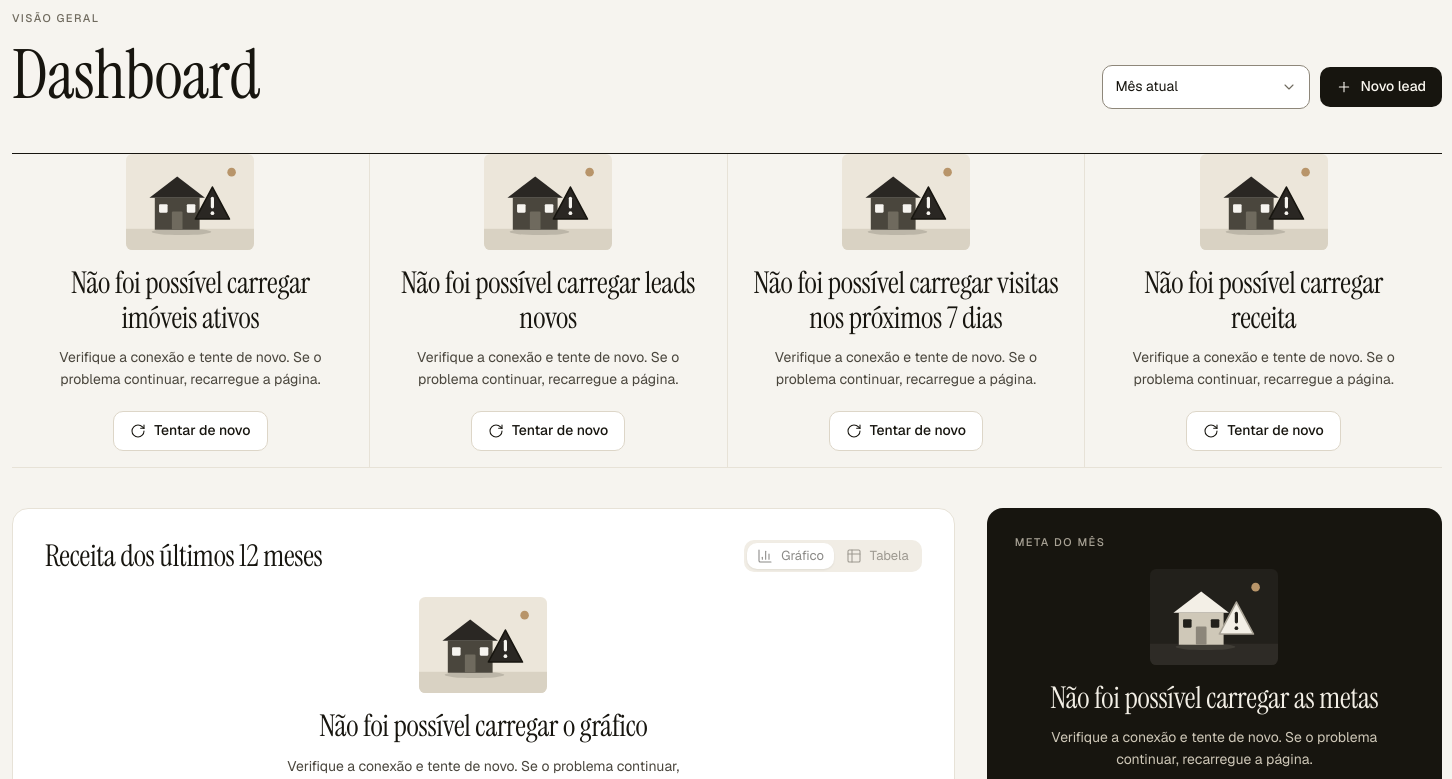
Test: TelaDashboard (RF-10…16) › erro com taxaErro 1 mostra Tentar de novo e se recupera
The width and height of the screenshot is (1452, 779).
Click the button "Tentar de novo" below "Não foi possível carregar imóveis ativos": [190, 431] box [113,411,268,451]
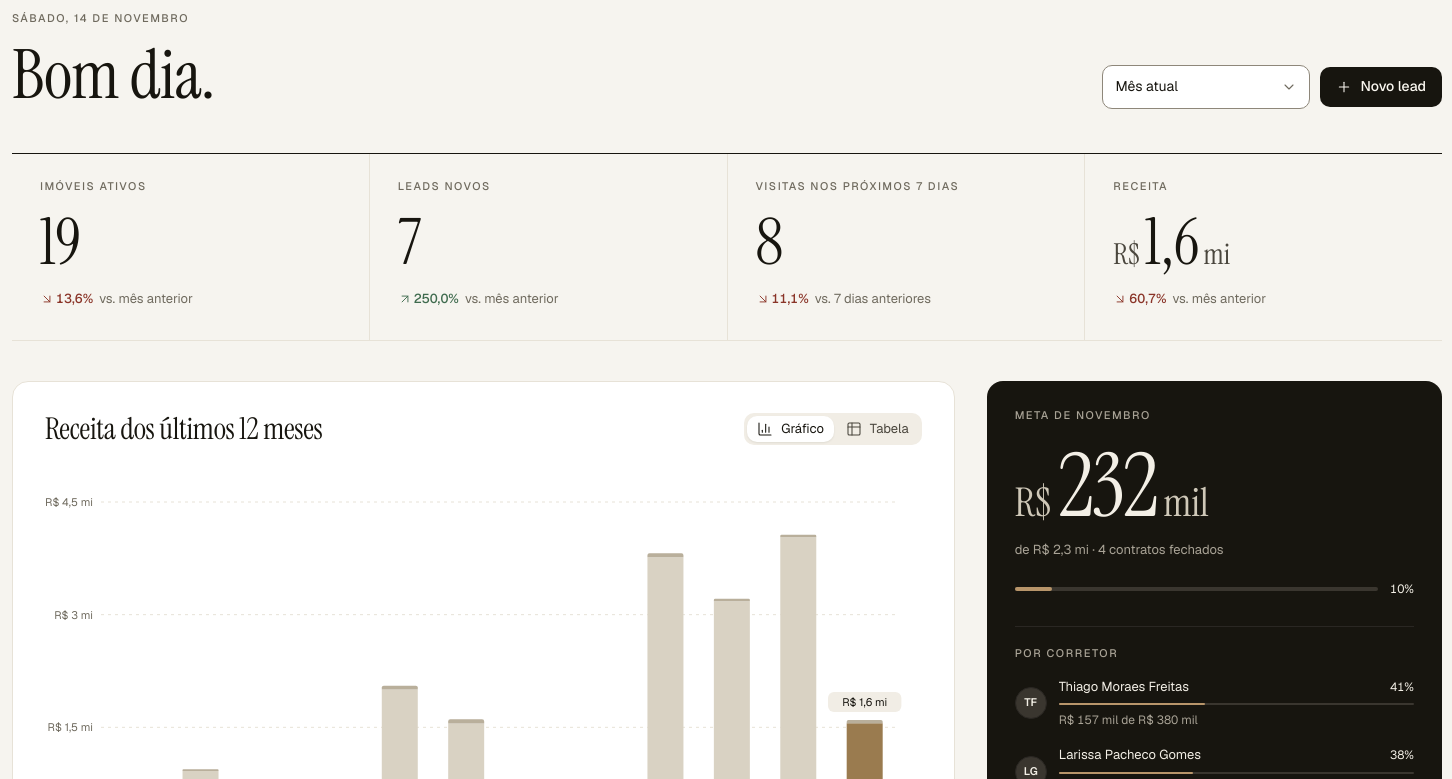
Now the element "Receita" is shown, box [1085,154,1442,340]
Now the button "Tentar de novo" is gone
